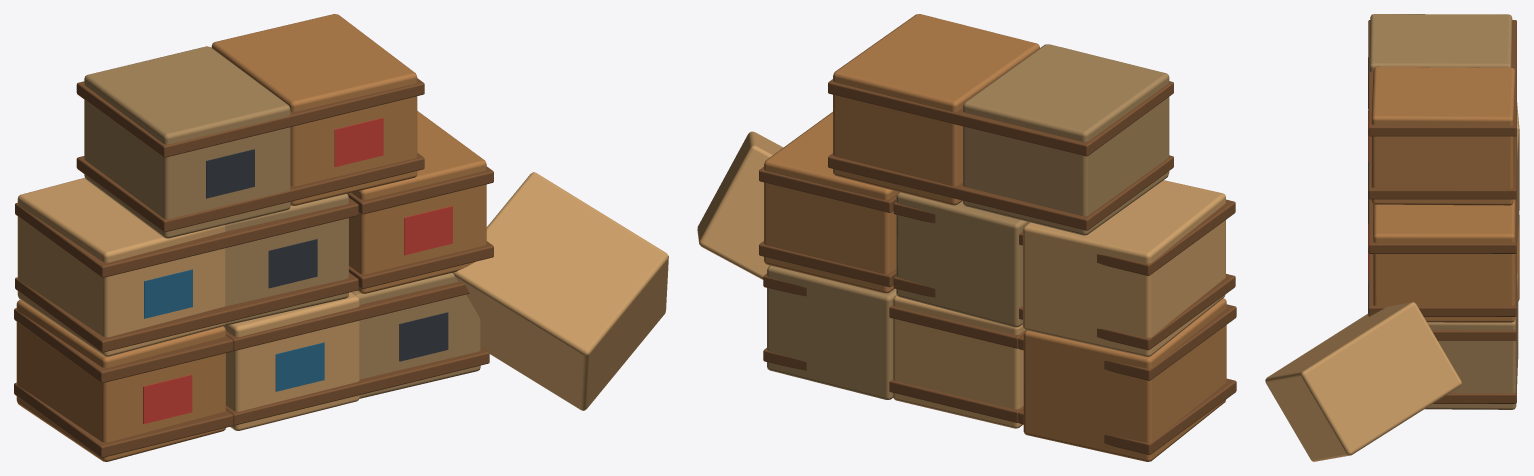
File: mk_crate_wall.glb
The picture shows the model from 3 angles, left to right: view 1: azimuth 30°, elevation 25°; view 2: azimuth 150°, elevation 25°; view 3: azimuth 270°, elevation 25°; orthographic projection. The views are drawn at different scales.
Parts seen in each view (by area): view 1: mk_crate_wall_body; view 2: mk_crate_wall_body; view 3: mk_crate_wall_body.
Boxes of the visible parts, x1,y1,x2,y2 form: mk_crate_wall_body: [14, 14, 668, 461]; mk_crate_wall_body: [697, 14, 1236, 461]; mk_crate_wall_body: [1265, 14, 1519, 461].
Bounding box in the file's own units: 3.41 × 2.03 × 1.61.
